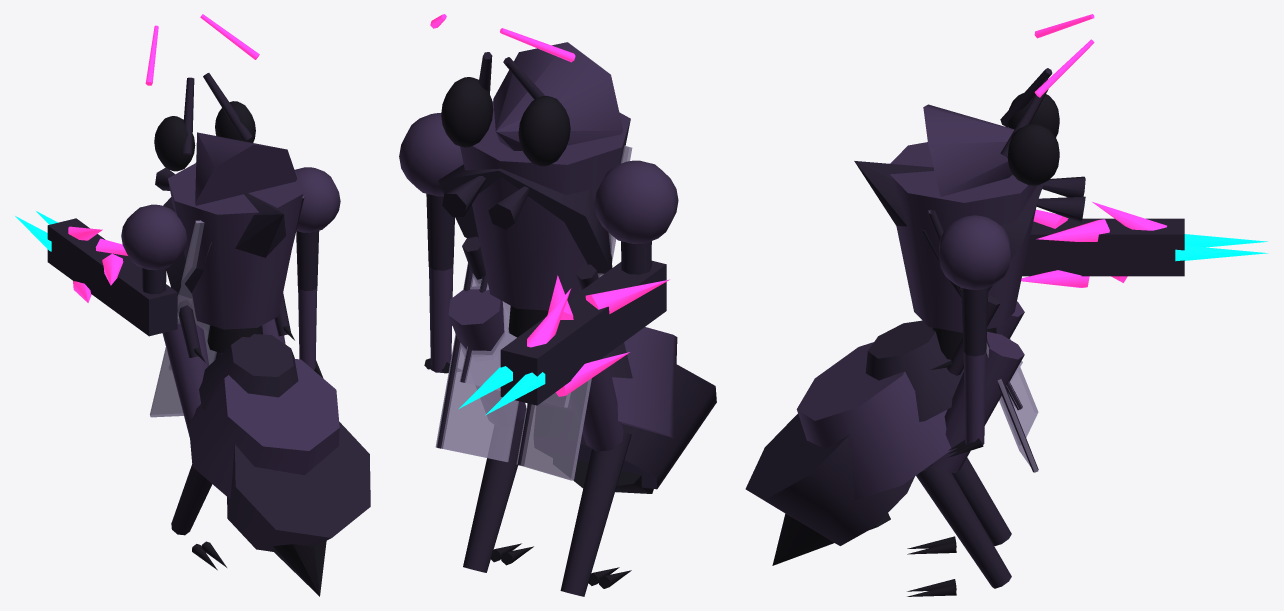
Rendered from bug_alien_trooper.glb.
The picture shows the model from 3 angles, left to right: view 1: azimuth 30°, elevation 25°; view 2: azimuth 150°, elevation 25°; view 3: azimuth 270°, elevation 25°; orthographic projection. The views are drawn at different scales.
Parts seen in each view (by area): view 1: abdomenGroup, torso, cannonHousing, headGroup, rightArmGroup, weaponArm, wing_0, leftLegGroup, hockGroup, rightAntenna, leftAntenna, lowerLeftArm; view 2: torso, cannonHousing, headGroup, abdomenGroup, hockGroup (×2), rightArmGroup, weaponArm, wing_1, wing_0, rightLegGroup, leftLegGroup, wing_3 (+5 smaller); view 3: abdomenGroup, torso, cannonHousing, headGroup, rightArmGroup, hockGroup (×2), rightLegGroup, wing_1, leftAntenna, rightAntenna, wing_0, rightMandible (+1 smaller).
Part boxes in pixels (box(x1,y1,x2,y2)): abdomenGroup: box(188, 334, 370, 596); torso: box(163, 163, 302, 353); cannonHousing: box(15, 211, 177, 336); headGroup: box(154, 101, 297, 205); rightArmGroup: box(294, 167, 340, 378); weaponArm: box(121, 204, 187, 294); wing_0: box(150, 220, 221, 417); leftLegGroup: box(162, 321, 209, 437); hockGroup: box(171, 464, 226, 570); rightAntenna: box(200, 14, 259, 141); leftAntenna: box(145, 25, 194, 155); lowerLeftArm: box(177, 294, 205, 362); torso: box(438, 101, 630, 337); cannonHousing: box(459, 260, 669, 415); headGroup: box(441, 42, 623, 166); abdomenGroup: box(573, 327, 716, 493); hockGroup (×2): box(463, 408, 631, 596); rightArmGroup: box(399, 113, 463, 373); weaponArm: box(594, 160, 678, 274); wing_1: box(435, 263, 518, 462); wing_0: box(516, 145, 632, 480); rightLegGroup: box(448, 286, 525, 424); leftLegGroup: box(582, 355, 623, 451); wing_3: box(459, 274, 516, 390); abdomenGroup: box(745, 320, 963, 565); torso: box(854, 142, 1043, 359); cannonHousing: box(1021, 202, 1268, 287); headGroup: box(923, 93, 1059, 196); rightArmGroup: box(939, 215, 1010, 457); hockGroup (×2): box(907, 457, 1011, 596); rightLegGroup: box(932, 331, 1024, 473); wing_1: box(928, 210, 1038, 472); leftAntenna: box(1000, 14, 1094, 127); rightAntenna: box(1000, 39, 1094, 157); wing_0: box(1010, 367, 1038, 437); rightMandible: box(1036, 196, 1085, 222).
Size of the model in its own units: 1.36 by 2.87 by 2.5.
